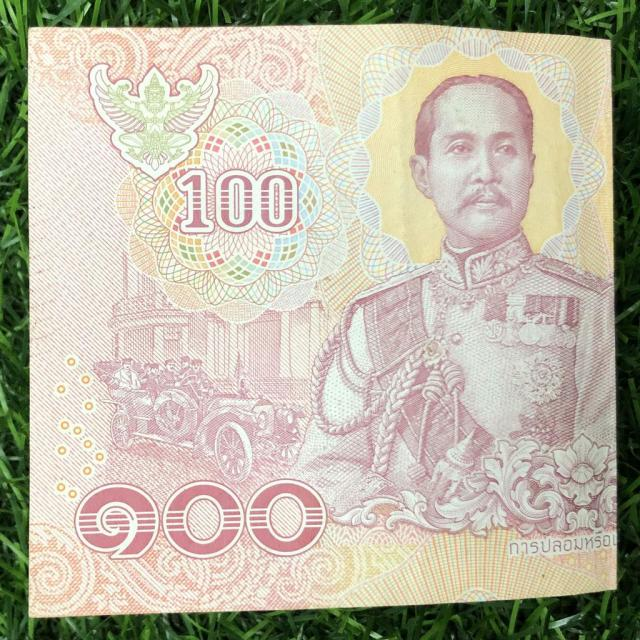THAI100: (29, 24, 617, 616)
